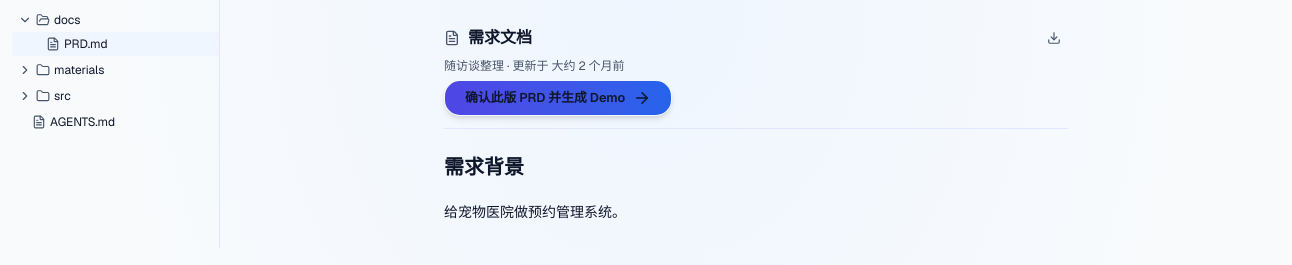
Test: FilesPanel · 文件树浏览（#27） › 点其他文件 → 内容端点正文呈现；目录收起/展开可点
The width and height of the screenshot is (1292, 265).
Note: docs 随选中祖先自动展开：手动收起 → PRD.md 行隐藏，再点展开复现
Step 1. Click the button "docs" → (116, 20), box left=12, top=8, right=219, bottom=32
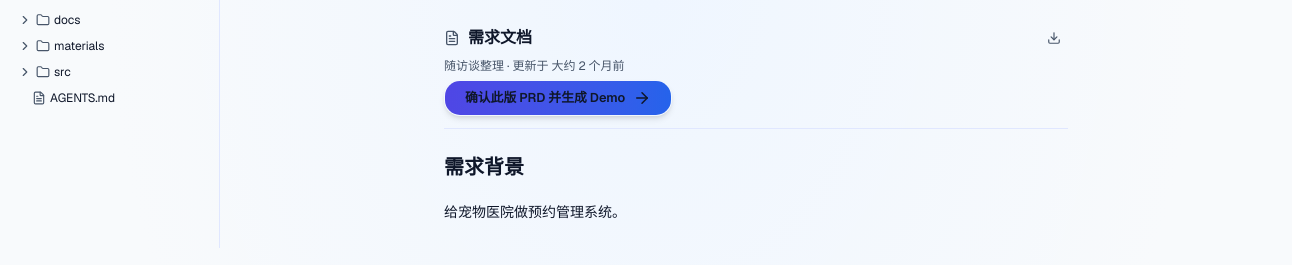
Step 2. Click the button "docs" → (116, 20), box left=12, top=8, right=219, bottom=32
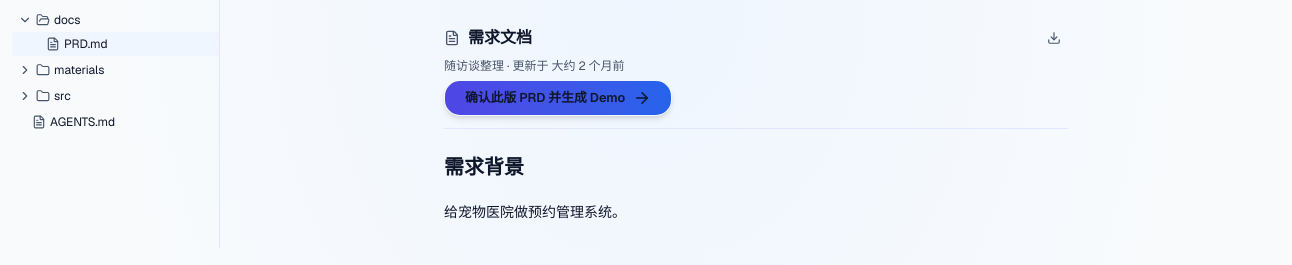
Check: the button "PRD.md" is shown, box left=12, top=32, right=219, bottom=56
Note: 展开未选中的祖先链（src → src/app）后点 page.tsx → 文本正文（pre 直出）
Step 3. Click the button "src" → (116, 96), box left=12, top=84, right=219, bottom=108
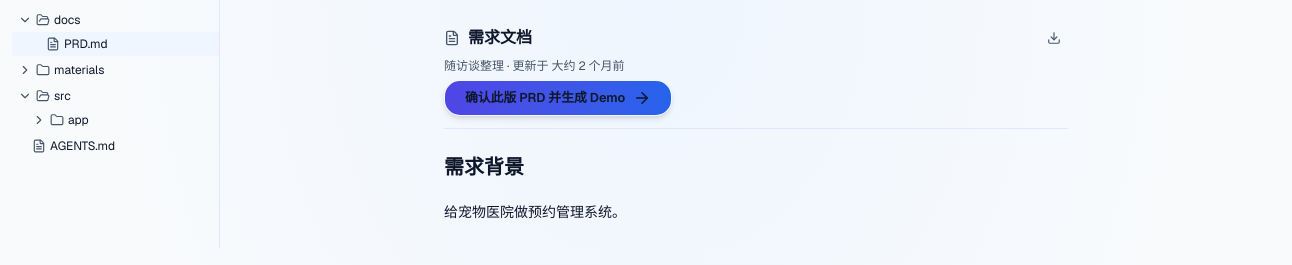
Step 4. Click the button "app" → (116, 120), box left=12, top=108, right=219, bottom=132
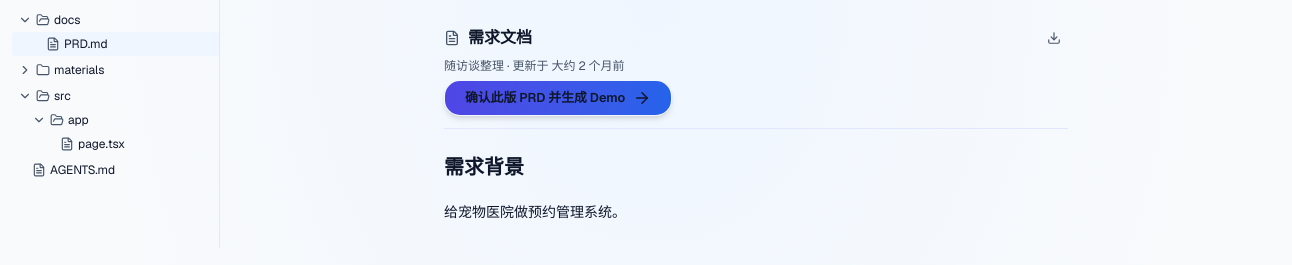
Step 5. Click the button "page.tsx" → (116, 144), box left=12, top=132, right=219, bottom=156
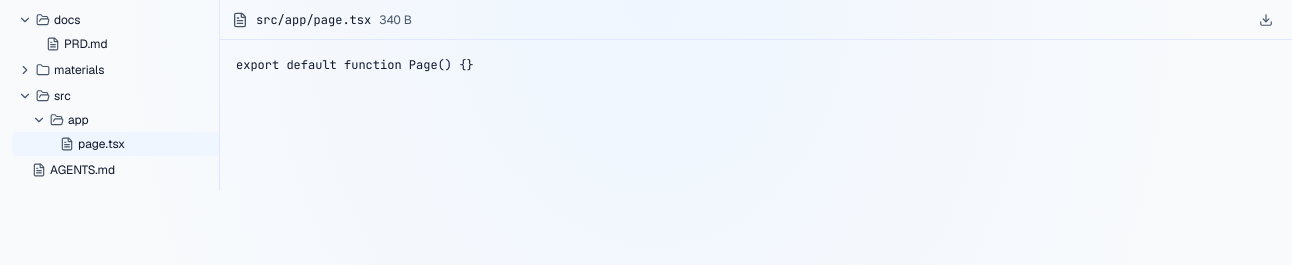
Check: the text "export default function Page() {}" is shown, box left=236, top=57, right=474, bottom=73
